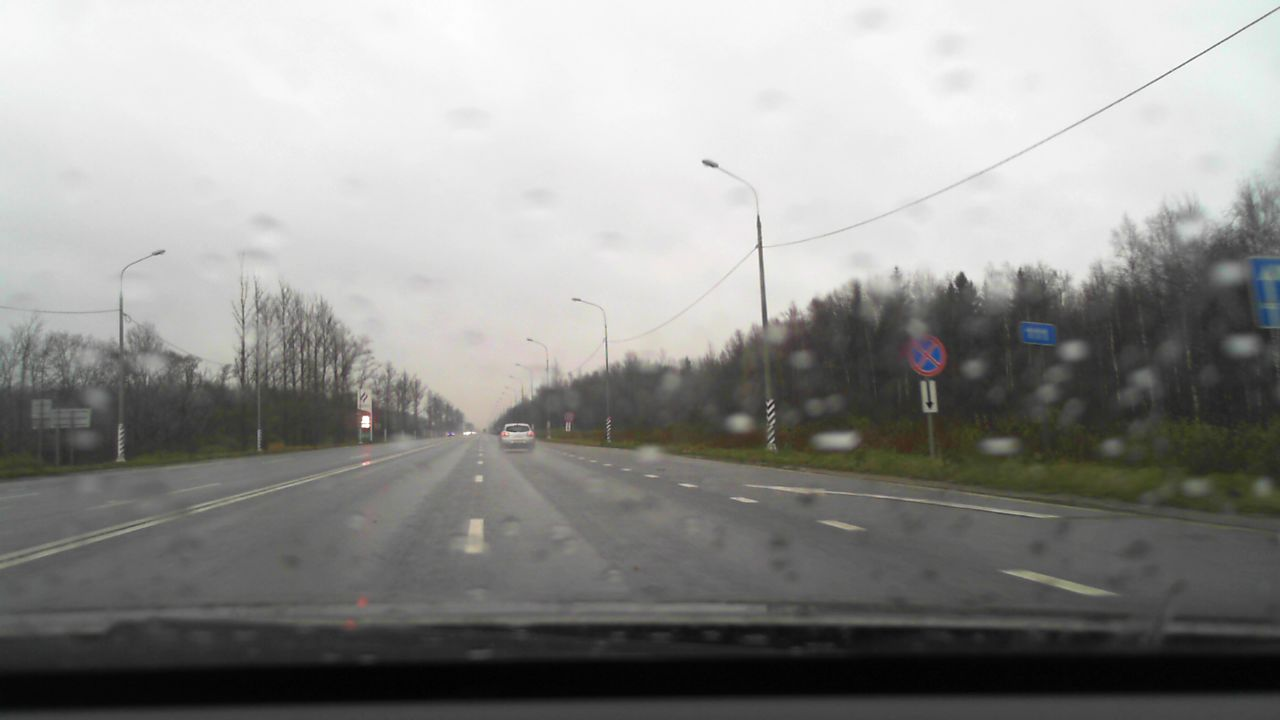No Parking: (907, 334, 946, 375)
